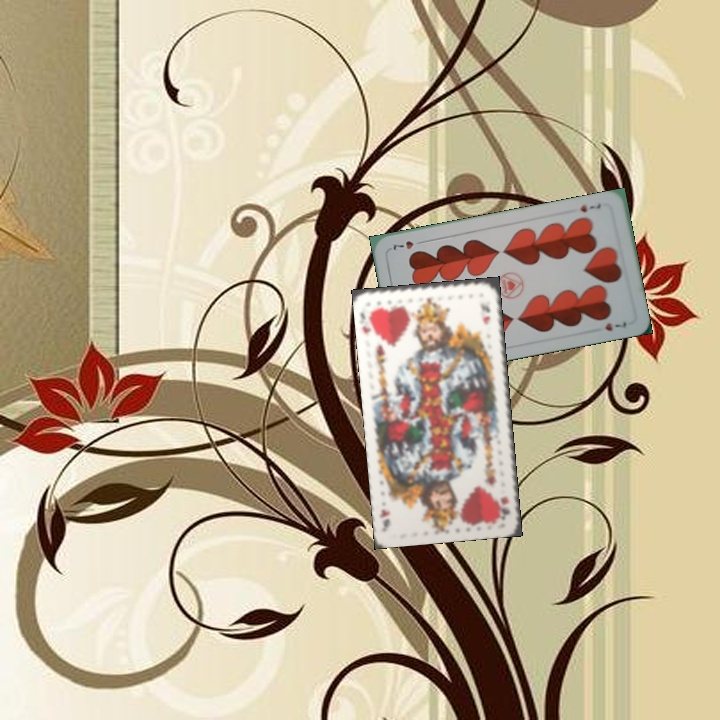H7: (576, 200, 603, 215)
HK: (356, 307, 373, 337), (496, 493, 512, 521)
